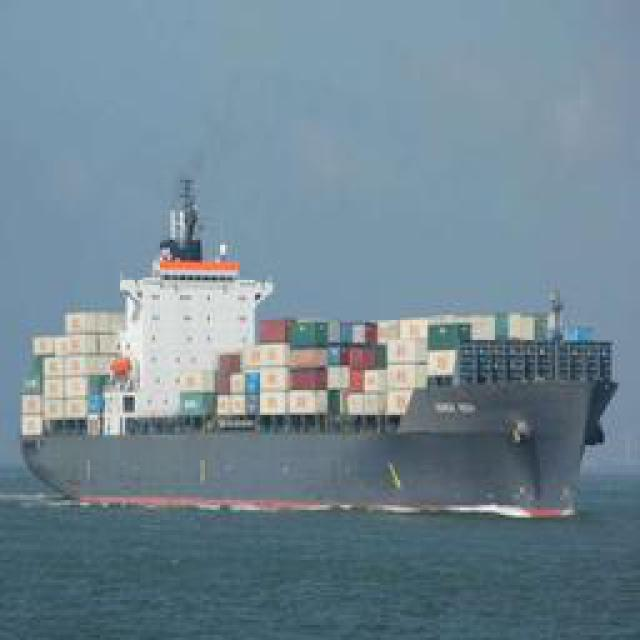Ship: (22, 156, 612, 514)
